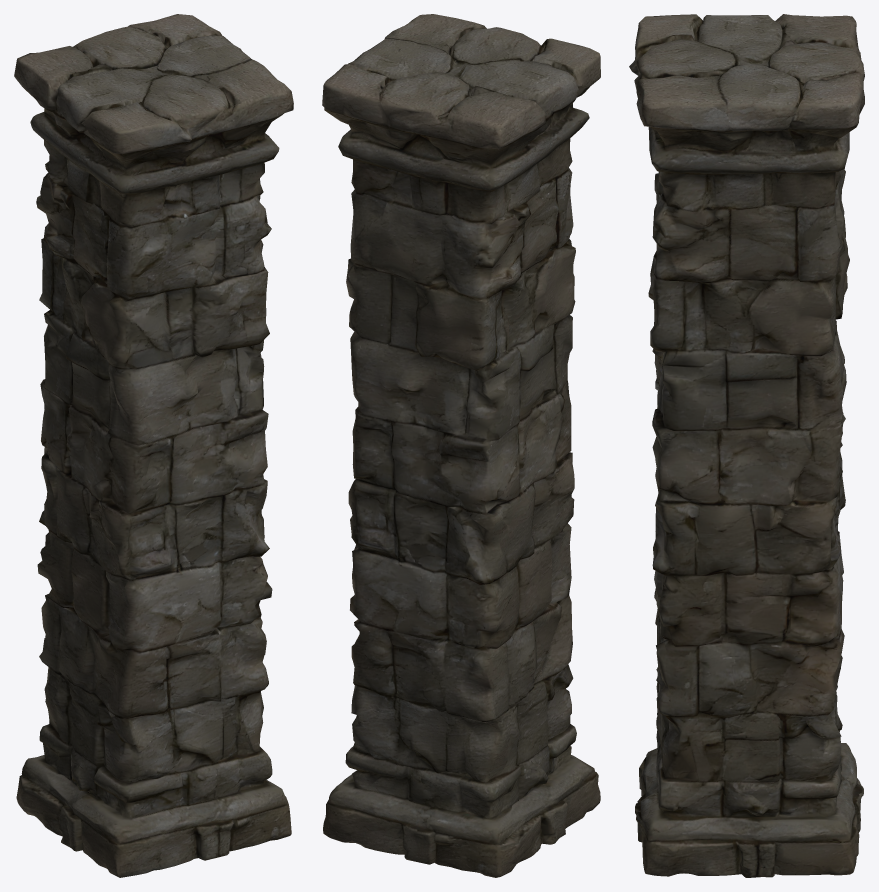
Rendered from v2_pillar.glb.
3 renders of one model, left to right at view 1: azimuth 30°, elevation 25°; view 2: azimuth 150°, elevation 25°; view 3: azimuth 270°, elevation 25°, orthographic. The views are drawn at different scales.
Parts seen in each view (by area): view 1: tripo_node_d902dfd3-d34c-4942-a9a4-f3f53d9f4dc0; view 2: tripo_node_d902dfd3-d34c-4942-a9a4-f3f53d9f4dc0; view 3: tripo_node_d902dfd3-d34c-4942-a9a4-f3f53d9f4dc0.
Boxes of the visible parts, <box> form: tripo_node_d902dfd3-d34c-4942-a9a4-f3f53d9f4dc0: <box>14,14,293,877</box>; tripo_node_d902dfd3-d34c-4942-a9a4-f3f53d9f4dc0: <box>322,14,600,877</box>; tripo_node_d902dfd3-d34c-4942-a9a4-f3f53d9f4dc0: <box>629,14,864,877</box>.
Size of the model in its own units: 0.2702 by 1 by 0.2756.
Materials: 1 (1 with a texture image).
